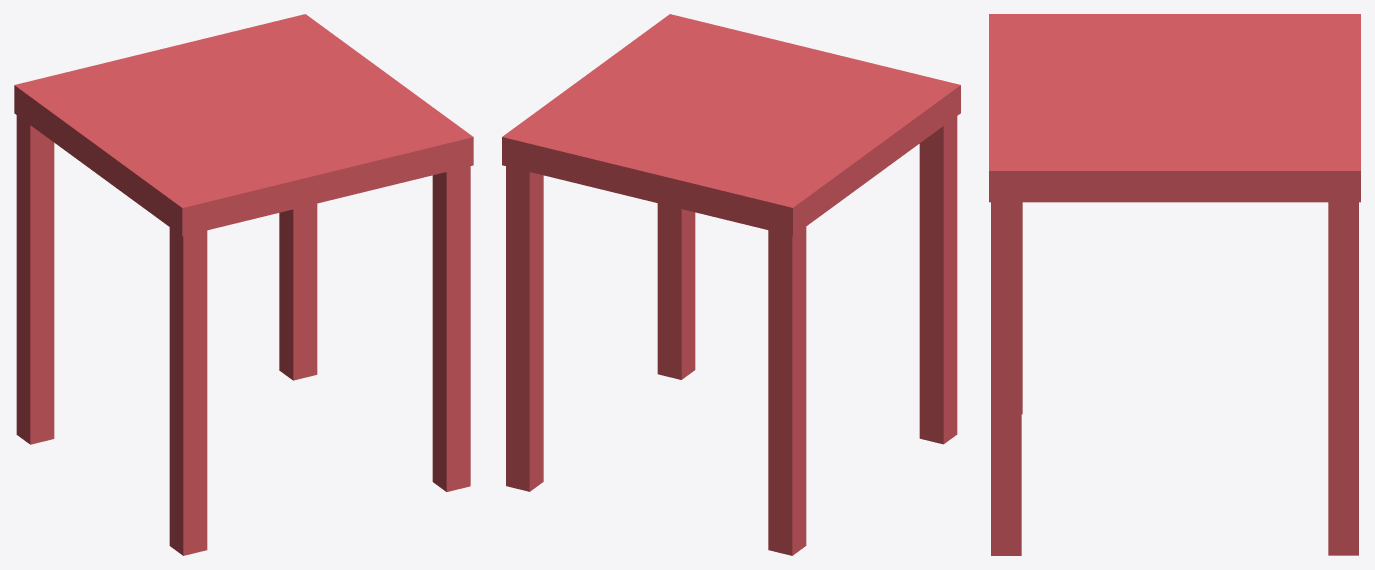
The picture shows the model from 3 angles, left to right: view 1: azimuth 30°, elevation 25°; view 2: azimuth 150°, elevation 25°; view 3: azimuth 270°, elevation 25°; orthographic projection. The views are drawn at different scales.
Visible parts, largest first — view 1: Cube, 立方体.003, 立方体, 立方体.002, 立方体.001; view 2: Cube, 立方体.002, 立方体.003, 立方体.001, 立方体; view 3: Cube, 立方体, 立方体.001.
Boxes of the visible parts, left/top/right/bottom form: Cube: left=14, top=14, right=473, bottom=236; 立方体.003: left=169, top=227, right=207, bottom=555; 立方体: left=432, top=166, right=470, bottom=491; 立方体.002: left=16, top=115, right=54, bottom=444; 立方体.001: left=279, top=203, right=317, bottom=380; Cube: left=502, top=14, right=960, bottom=235; 立方体.002: left=768, top=227, right=806, bottom=555; 立方体.003: left=919, top=116, right=957, bottom=444; 立方体.001: left=506, top=166, right=543, bottom=491; 立方体: left=657, top=203, right=695, bottom=379; Cube: left=989, top=14, right=1360, bottom=202; 立方体: left=991, top=202, right=1021, bottom=555; 立方体.001: left=1328, top=202, right=1358, bottom=555.
Bounding box in the file's own units: 2 × 2.29 × 2.
